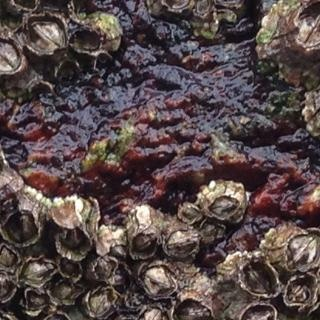Barnacle: (283, 229, 320, 272), (28, 15, 66, 51), (296, 0, 320, 49), (142, 264, 175, 299), (244, 261, 276, 296), (20, 260, 56, 288), (7, 211, 36, 245), (210, 193, 244, 220), (167, 227, 195, 258), (0, 39, 23, 76), (61, 227, 89, 255), (288, 277, 316, 303), (88, 290, 115, 315), (176, 299, 208, 320), (52, 281, 77, 305), (25, 292, 50, 314), (133, 231, 156, 253), (96, 257, 116, 282), (178, 205, 201, 226), (59, 259, 80, 280), (0, 246, 16, 269), (140, 306, 166, 320), (111, 244, 126, 259)
